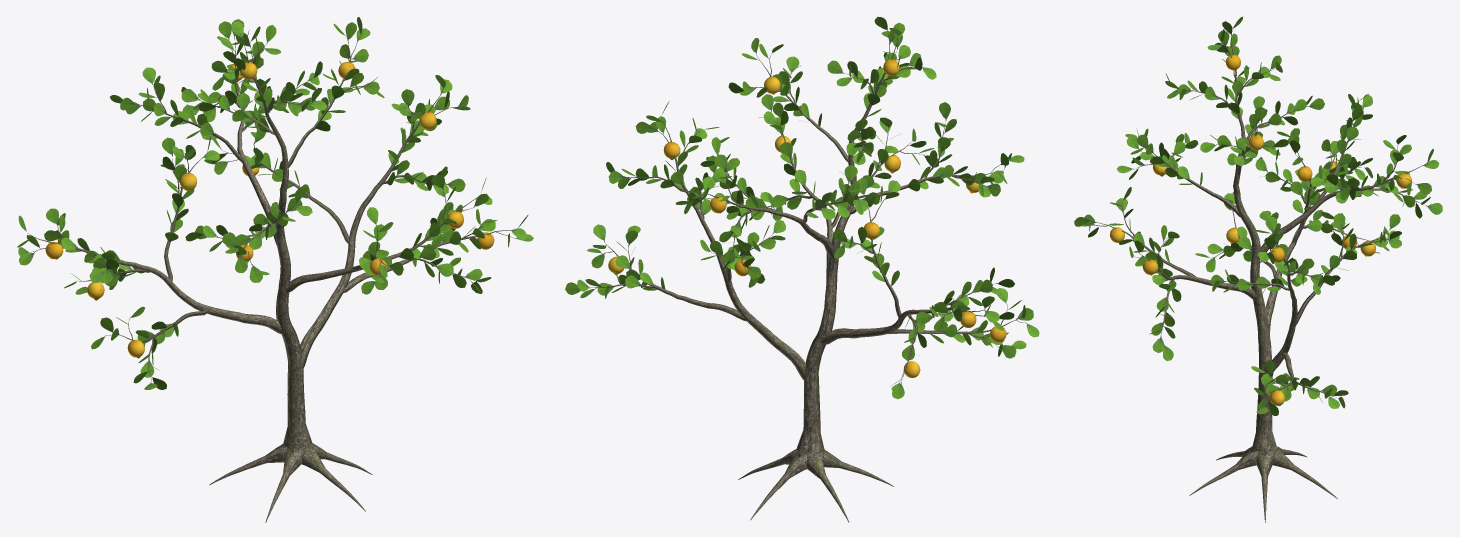
File: lemon.glb
3 views of the same model, side by side, from view 1: azimuth 30°, elevation 25°; view 2: azimuth 150°, elevation 25°; view 3: azimuth 270°, elevation 25° (orthographic). The views are drawn at different scales.
Visible parts, largest first — view 1: Object_858, Object_862, Object_860; view 2: Object_858, Object_862, Object_860; view 3: Object_858, Object_862, Object_860.
Boxes of the visible parts, x1,y1,x2,y2 form: Object_858: [17, 17, 533, 389]; Object_862: [27, 36, 515, 522]; Object_860: [45, 62, 494, 358]; Object_858: [565, 17, 1039, 399]; Object_862: [589, 32, 1024, 522]; Object_860: [608, 59, 1006, 377]; Object_858: [1074, 16, 1442, 415]; Object_862: [1091, 36, 1426, 522]; Object_860: [1110, 54, 1411, 406].
Bounding box in the file's own units: 4.44 × 4.4 × 3.36.
3 materials, 3 textured.
